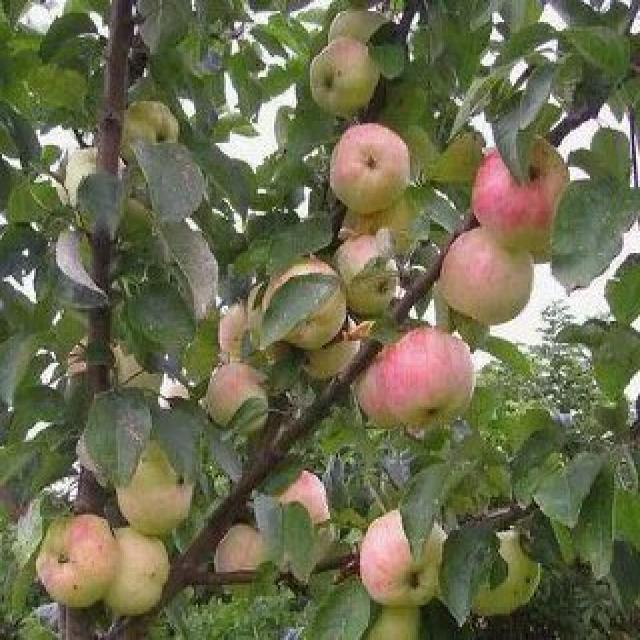Fresh Apple: (472, 134, 572, 254), (358, 502, 457, 608), (438, 227, 538, 330), (377, 323, 475, 427), (113, 432, 200, 536), (332, 123, 410, 224), (38, 510, 115, 602), (307, 31, 375, 120), (205, 359, 264, 432)
